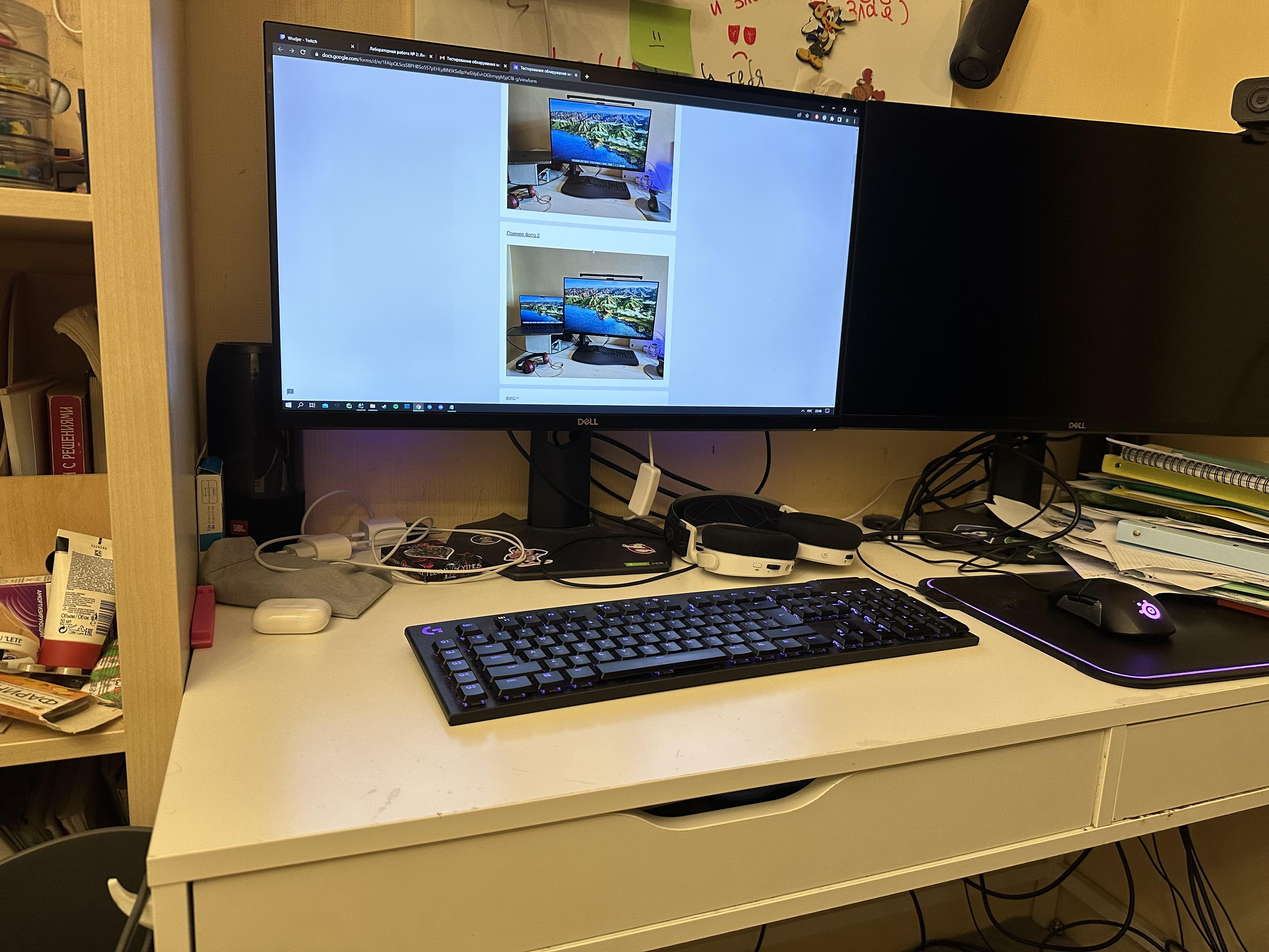monitor: (261, 17, 864, 439), (814, 90, 1269, 444)
